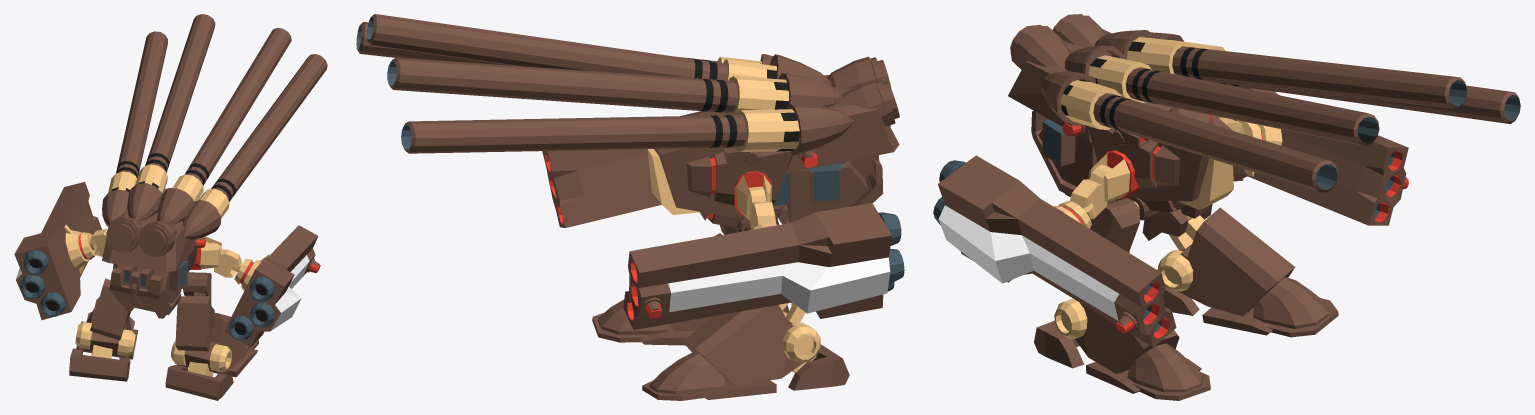
Rendered from scene_cB9vxDW4T6.glb.
3 views of the same model, side by side, from view 1: azimuth 30°, elevation 25°; view 2: azimuth 150°, elevation 25°; view 3: azimuth 270°, elevation 25° (orthographic). The views are drawn at different scales.
Parts seen in each view (by area): view 1: group483510765, group855618026, group1285542507, group710544676, group2095829711, group1776004911, group1228466412, group1369593712, group1930281786, group29295131, group895368533, group2027168648 (+9 smaller); view 2: group483510765, group1369593712, group1228466412, group710544676, group2095829711, group1285542507, group1930281786, group855618026, group36627602, group2115055181, group1935976505, group1776004911 (+11 smaller); view 3: group1285542507, group710544676, group1228466412, group855618026, group1776004911, group2095829711, group483510765, group1930281786, group1369593712, group1782864783, group2027168648, group46831156 (+10 smaller).
Boxes of the visible parts, <box> form: group483510765: <box>14,182,101,320</box>; group855618026: <box>165,272,258,400</box>; group1285542507: <box>224,225,320,347</box>; group710544676: <box>69,278,138,381</box>; group2095829711: <box>172,28,291,201</box>; group1776004911: <box>199,54,327,218</box>; group1228466412: <box>135,14,215,194</box>; group1369593712: <box>108,31,167,192</box>; group1930281786: <box>102,211,194,271</box>; group29295131: <box>109,268,181,318</box>; group895368533: <box>182,200,220,240</box>; group2027168648: <box>138,221,177,256</box>; group483510765: <box>623,203,904,329</box>; group1369593712: <box>401,109,799,153</box>; group1228466412: <box>387,57,788,115</box>; group710544676: <box>642,223,849,400</box>; group2095829711: <box>366,14,776,80</box>; group1285542507: <box>542,111,705,228</box>; group1930281786: <box>654,75,899,217</box>; group855618026: <box>592,219,788,345</box>; group36627602: <box>786,161,868,222</box>; group2115055181: <box>714,151,791,205</box>; group1935976505: <box>787,103,853,154</box>; group1776004911: <box>356,22,761,65</box>; group1285542507: <box>933,155,1176,347</box>; group710544676: <box>1142,204,1338,337</box>; group1228466412: <box>1127,36,1467,109</box>; group855618026: <box>1034,198,1210,400</box>; group1776004911: <box>1061,79,1338,192</box>; group2095829711: <box>1088,55,1379,145</box>; group483510765: <box>1217,85,1408,225</box>; group1930281786: <box>1008,29,1232,201</box>; group1369593712: <box>1170,40,1520,123</box>; group1782864783: <box>1087,126,1180,188</box>; group2027168648: <box>1010,24,1071,69</box>; group46831156: <box>1178,158,1233,210</box>.
Bounding box in the file's own units: 1.7 × 1.19 × 1.72.
